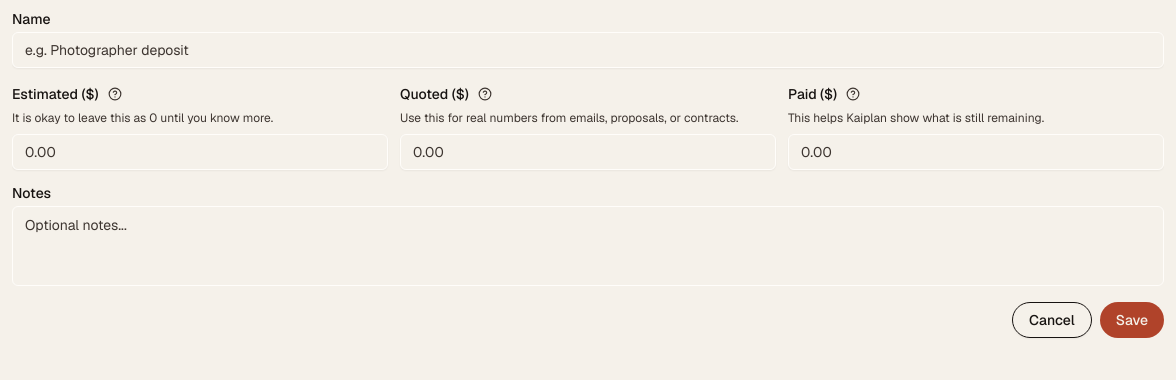
Test: BudgetItemForm › validates required name
The width and height of the screenshot is (1176, 380).
Click the button "Save": (1132, 320) [1100, 302, 1164, 338]
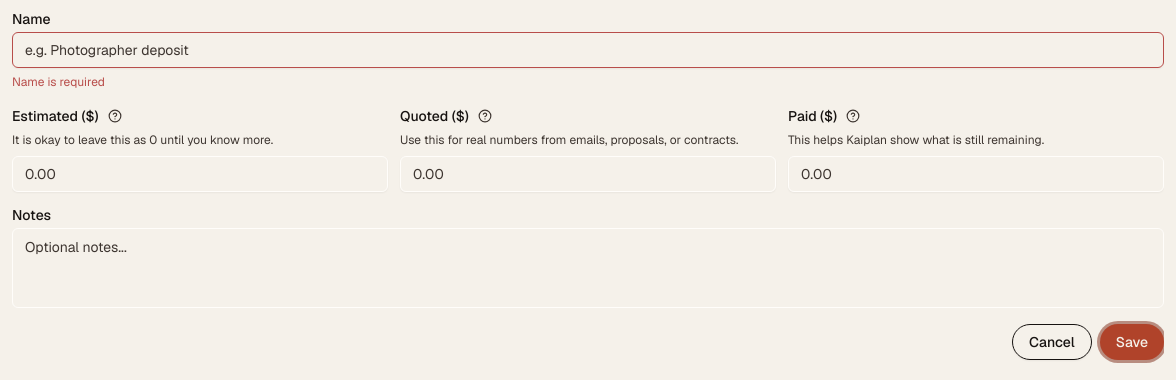
expect the message reads "Name is required": met, box [12, 74, 105, 90]
